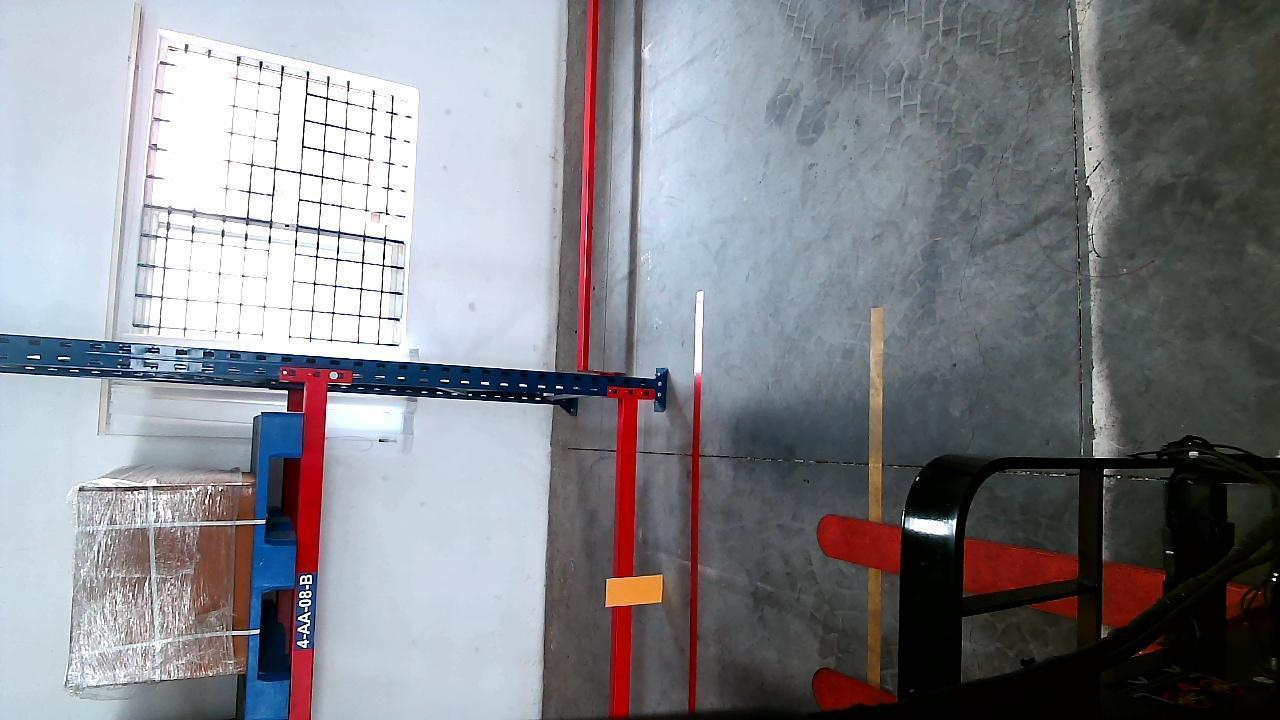red_line: (683, 301, 706, 707)
yellow_line: (865, 304, 883, 690)
